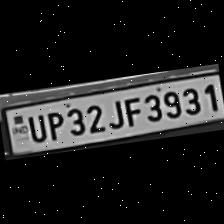1: (198, 79, 222, 113)
2: (81, 98, 106, 134)
3: (62, 103, 86, 138), (178, 84, 202, 118), (140, 90, 162, 124)
9: (159, 87, 182, 121)
F: (120, 93, 144, 127)
J: (104, 96, 126, 130)
P: (42, 106, 66, 142)
U: (23, 111, 48, 143)
